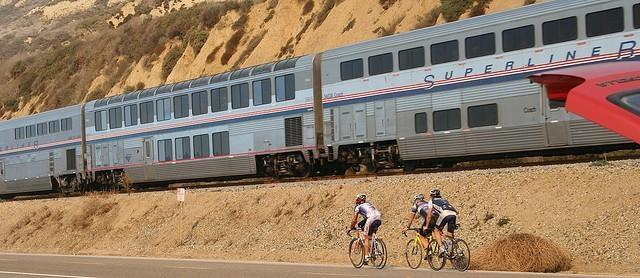bicycle: (426, 222, 471, 272), (347, 226, 388, 269), (402, 228, 436, 270)
car: (523, 60, 640, 148)
